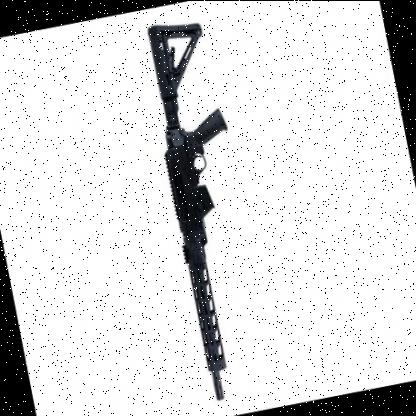rifle: (124, 10, 286, 412)
